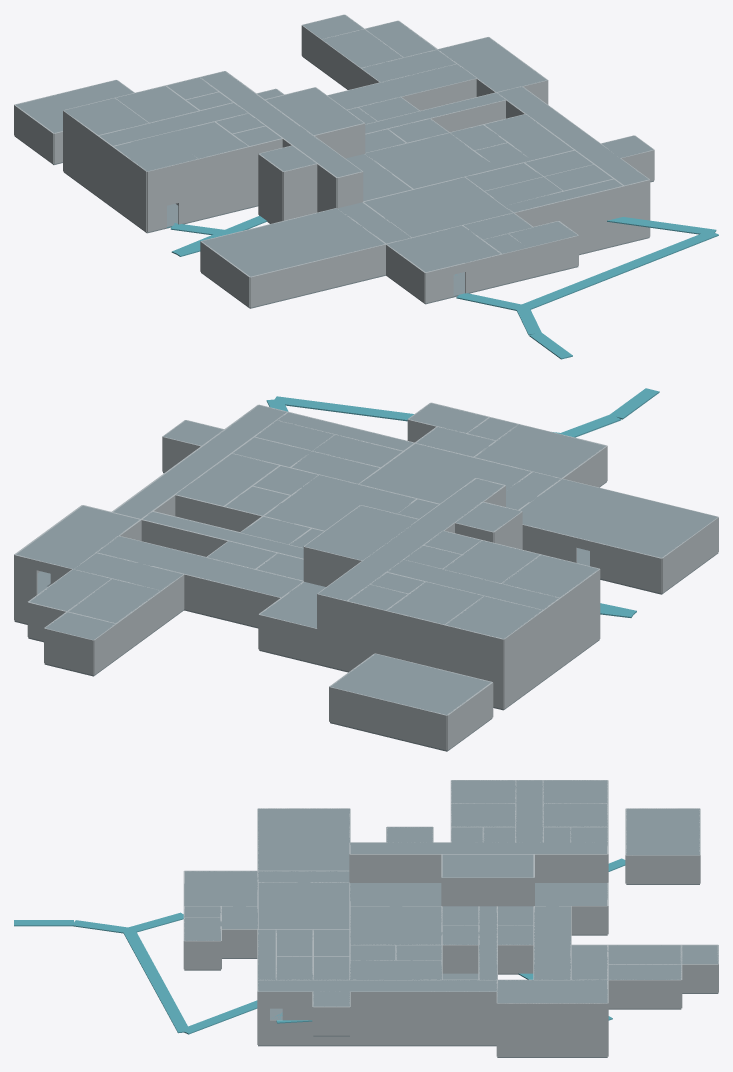
Rendered from furnished.glb.
The picture shows the model from 3 angles, top to bottom: view 1: azimuth 30°, elevation 25°; view 2: azimuth 150°, elevation 25°; view 3: azimuth 270°, elevation 25°; orthographic projection. The views are drawn at different scales.
Visible parts, largest first — view 1: Ceiling cap day, Ceiling cap dining, Wall day S, Ceiling cap treatment, Ceiling cap upper-spine, Ceiling cap service, Ceiling cap service-stair, Ceiling cap admission, Wall meal-return S, Ceiling cap service-link, Ceiling cap upper-stair, Ceiling cap chapel (+63 smaller); view 2: Ceiling cap day, Ceiling cap chapel, Ceiling cap dining, Ceiling cap upper-spine, Wall chapel N, Ceiling cap service-link, Ceiling cap treatment, Ceiling cap service, Ceiling cap admission, Ceiling cap service-stair, Ceiling cap upper-stair, Wall service-link N (+66 smaller); view 3: Ceiling cap day, Wall cellar-service E, Wall service E, Ceiling cap dining, Ceiling cap treatment, Ceiling cap chapel, Wall service-stair E, Ceiling cap upper-spine, Ceiling cap service, Wall cellar-stair E, Wall upper-stair E, Ceiling cap service-link (+49 smaller).
Part boxes in pixels (x1,y1,x2,y2): Ceiling cap day: (201,208,384,276); Ceiling cap dining: (364,177,512,237); Wall day S: (250,244,385,307); Ceiling cap treatment: (365,133,497,188); Ceiling cap upper-spine: (200,71,361,177); Ceiling cap service: (497,86,648,185); Ceiling cap service-stair: (438,37,546,92); Ceiling cap admission: (387,225,500,272); Wall meal-return S: (514,186,624,229); Ceiling cap service-link: (327,64,475,109); Ceiling cap upper-stair: (266,87,363,134); Ceiling cap chapel: (16,80,133,132); Ceiling cap day: (520,479,717,557); Ceiling cap chapel: (330,654,491,714); Ceiling cap dining: (359,443,531,503); Ceiling cap upper-spine: (318,478,503,600); Wall chapel N: (329,687,447,750); Ceiling cap service-link: (97,536,302,597); Ceiling cap treatment: (264,475,415,530); Ceiling cap service: (113,405,286,518); Ceiling cap admission: (474,424,605,478); Ceiling cap service-stair: (16,506,139,568); Ceiling cap upper-stair: (305,505,418,560); Wall service-link N: (151,566,280,627); Ceiling cap day: (258,808,349,870); Wall cellar-service E: (258,1020,496,1045); Wall service E: (282,991,496,1020); Ceiling cap dining: (258,882,349,928); Ceiling cap treatment: (350,906,441,944); Ceiling cap chapel: (626,808,699,855); Wall service-stair E: (497,1003,607,1031); Ceiling cap upper-spine: (350,842,607,853); Ceiling cap service: (258,980,497,991); Wall cellar-stair E: (497,1032,607,1056); Wall upper-stair E: (442,877,533,906); Ceiling cap service-link: (534,906,570,979).
Bounding box in the file's own units: 51.25 × 9.96 × 76.58.
